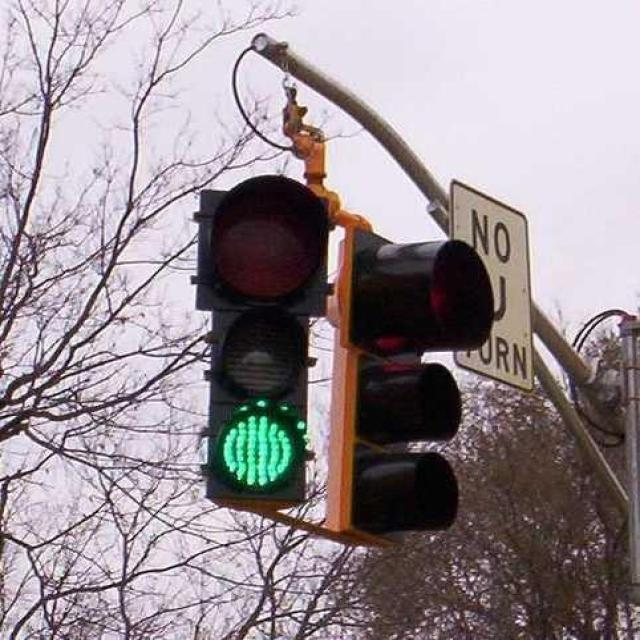Traffic Light -Green-: (196, 172, 324, 510)
